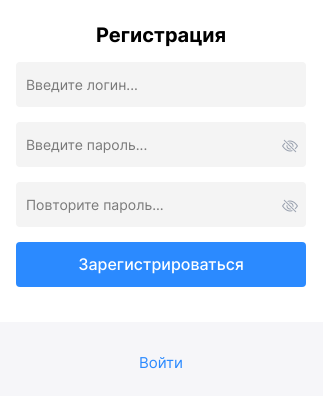
Registration › should show error message when passwords do not match
The width and height of the screenshot is (323, 396).
Type "ivan" into the field with placeholder "Введите логин..." at (161, 84), box [16, 62, 306, 107]
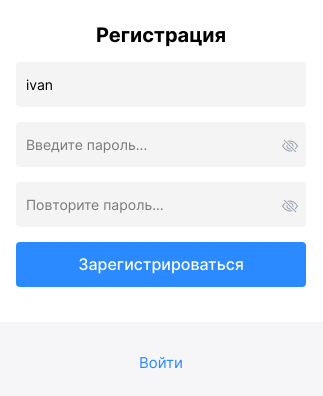
Type "qwe123" into the password field with placeholder "Введите пароль..." at (161, 144), box [16, 122, 306, 167]
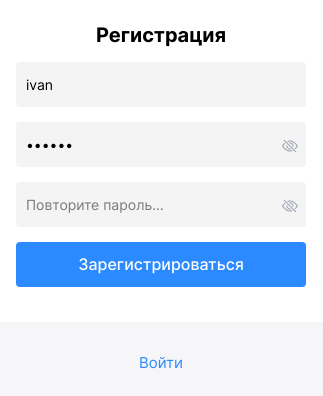
Type "qwe124" into the password field with placeholder "Повторите пароль..." at (161, 204), box [16, 182, 306, 227]
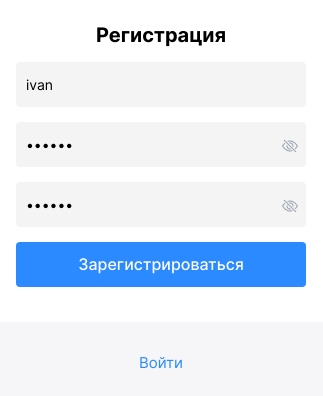
Click the button "Зарегистрироваться" at (161, 264), box [16, 242, 306, 287]
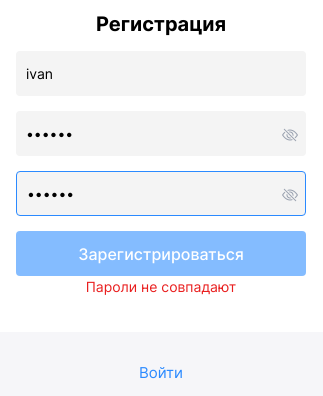
Expected: the text "Пароли не совпадают" is shown, [86, 276, 236, 297]
